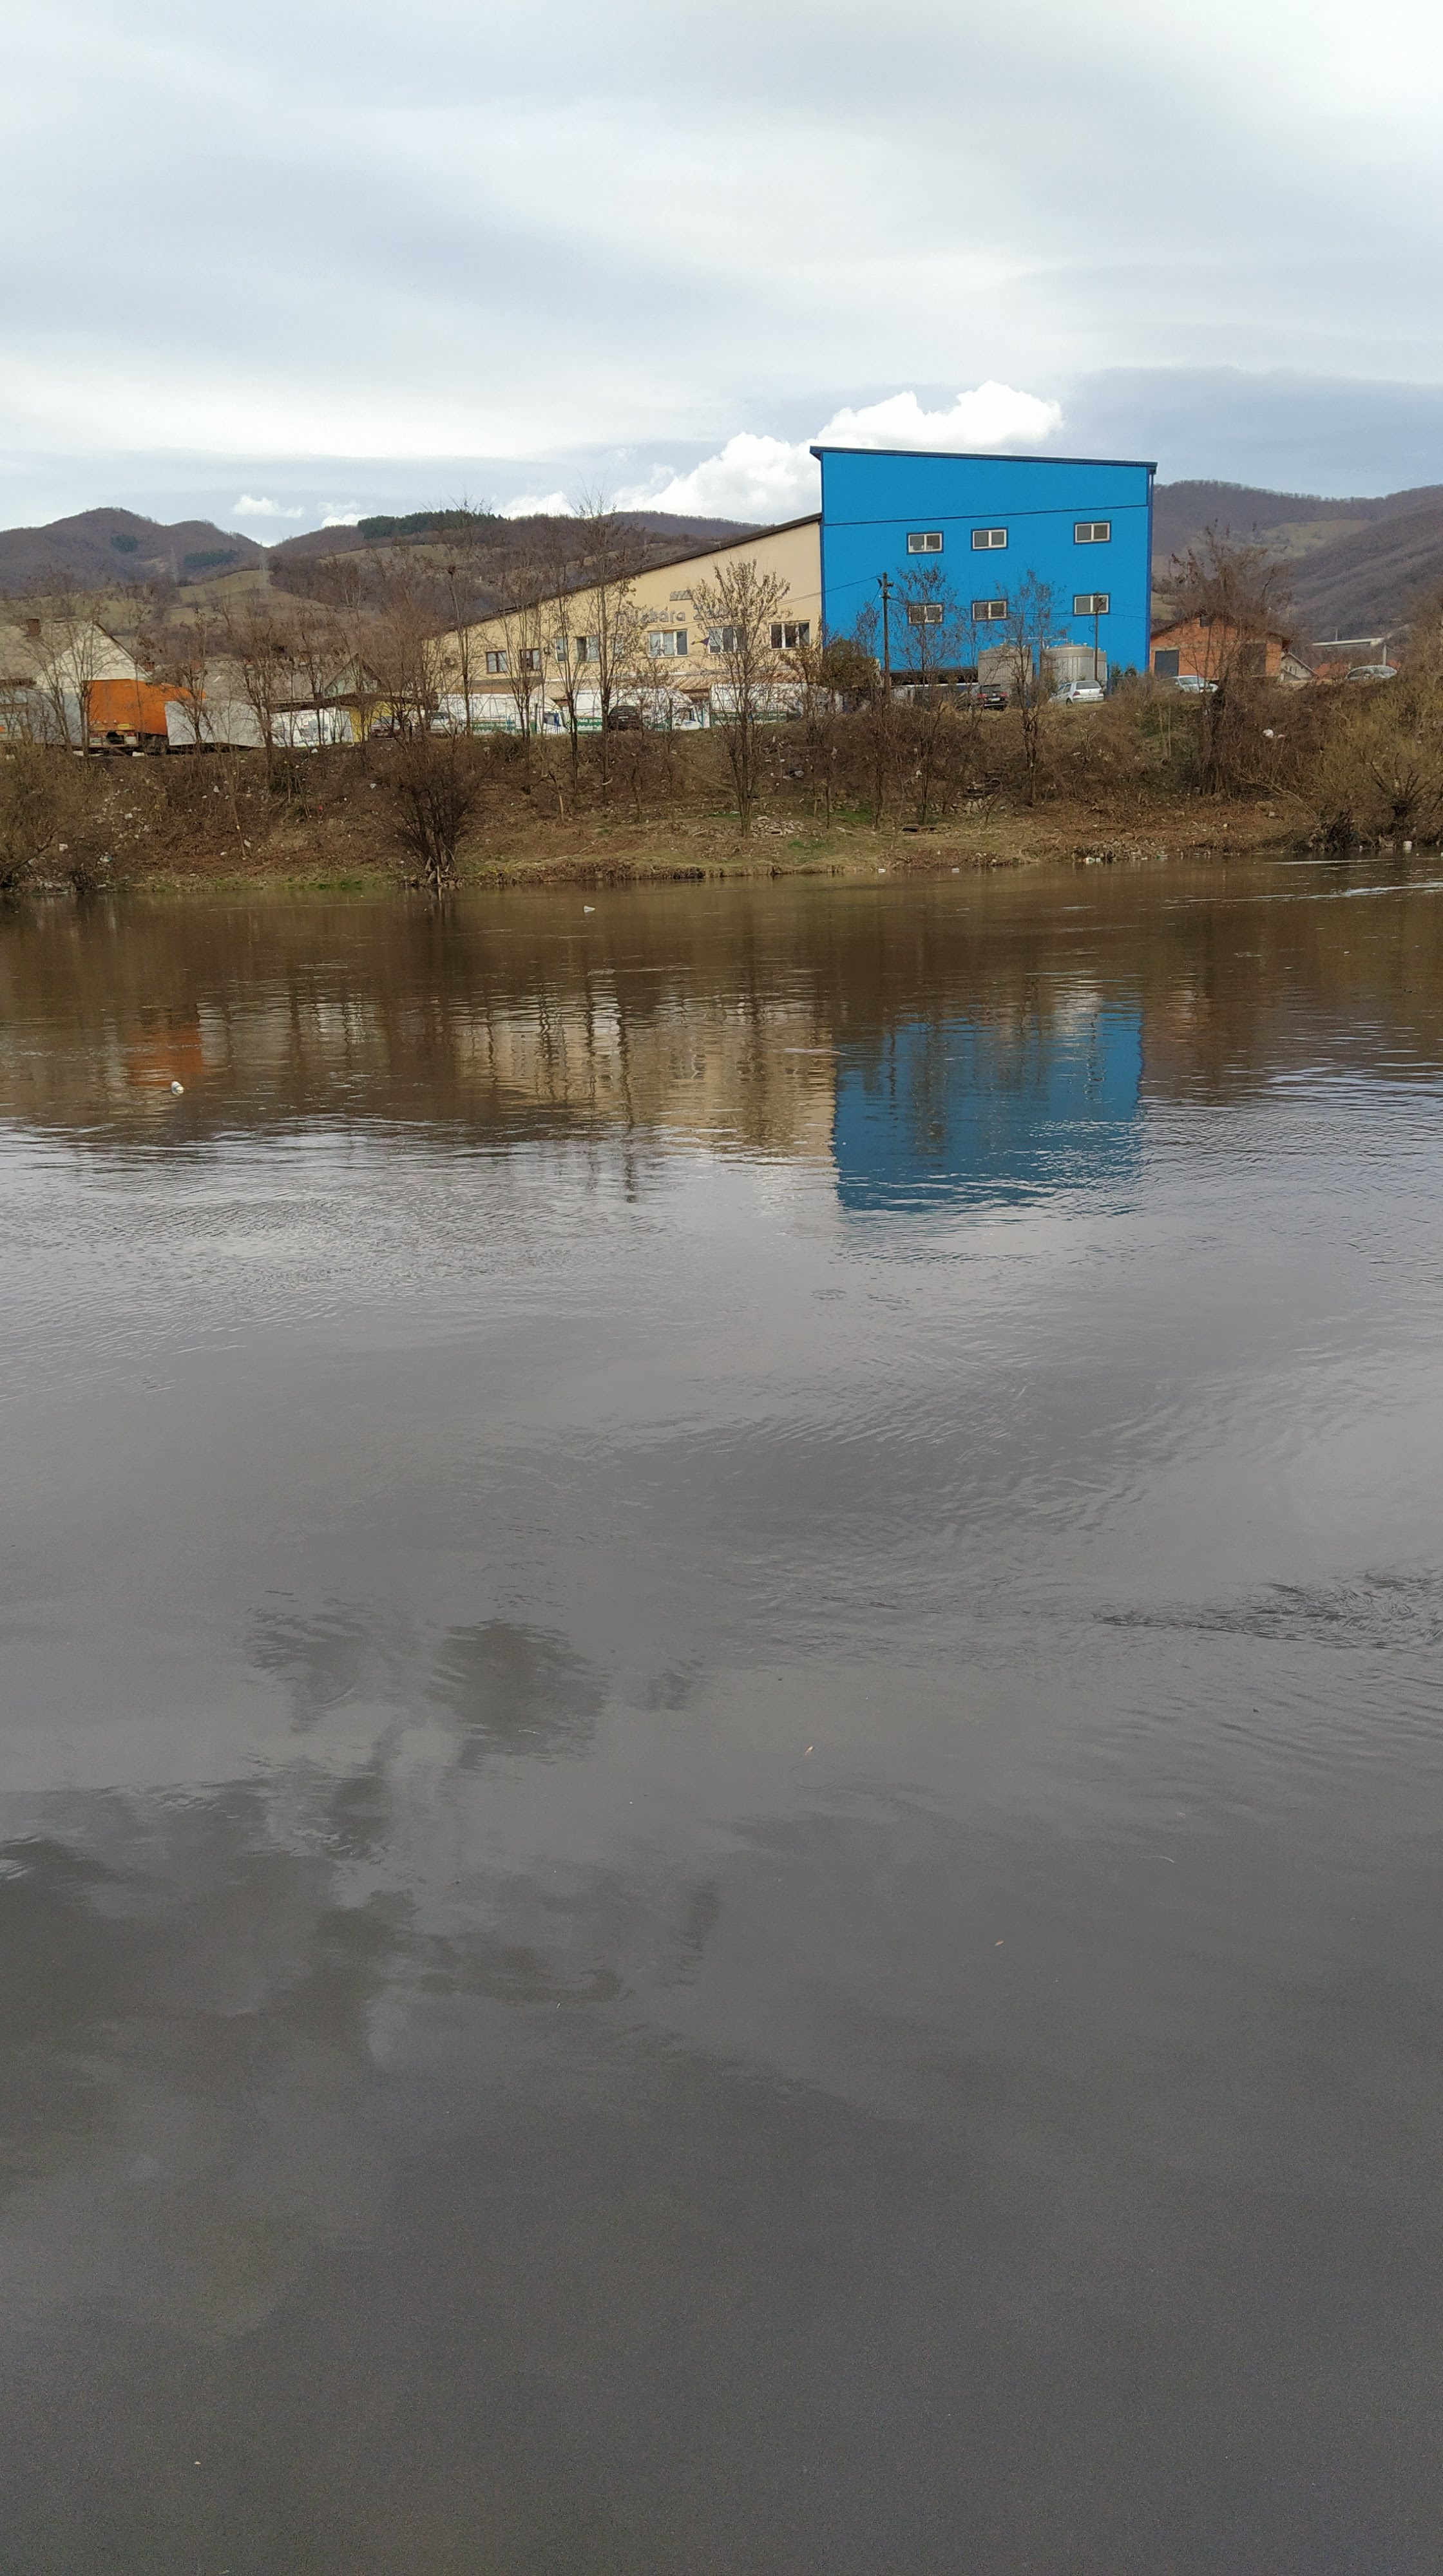Plastic Bottle: (172, 1081, 182, 1092), (584, 906, 593, 911), (953, 867, 958, 870), (878, 869, 885, 870), (1156, 855, 1160, 858)
